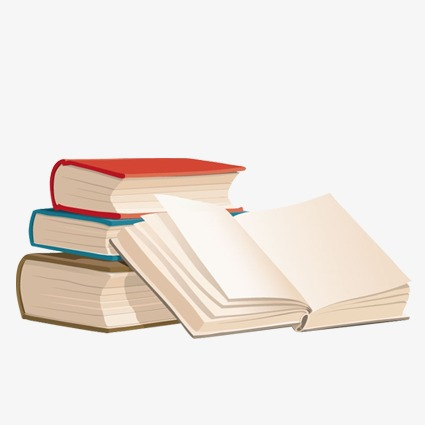book: (103, 184, 418, 350), (10, 238, 284, 347), (14, 193, 272, 277), (40, 146, 253, 226)
